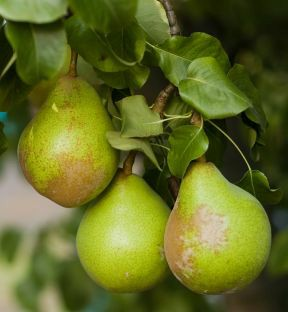pear: (164, 160, 271, 294), (17, 76, 119, 206), (76, 173, 172, 291)
